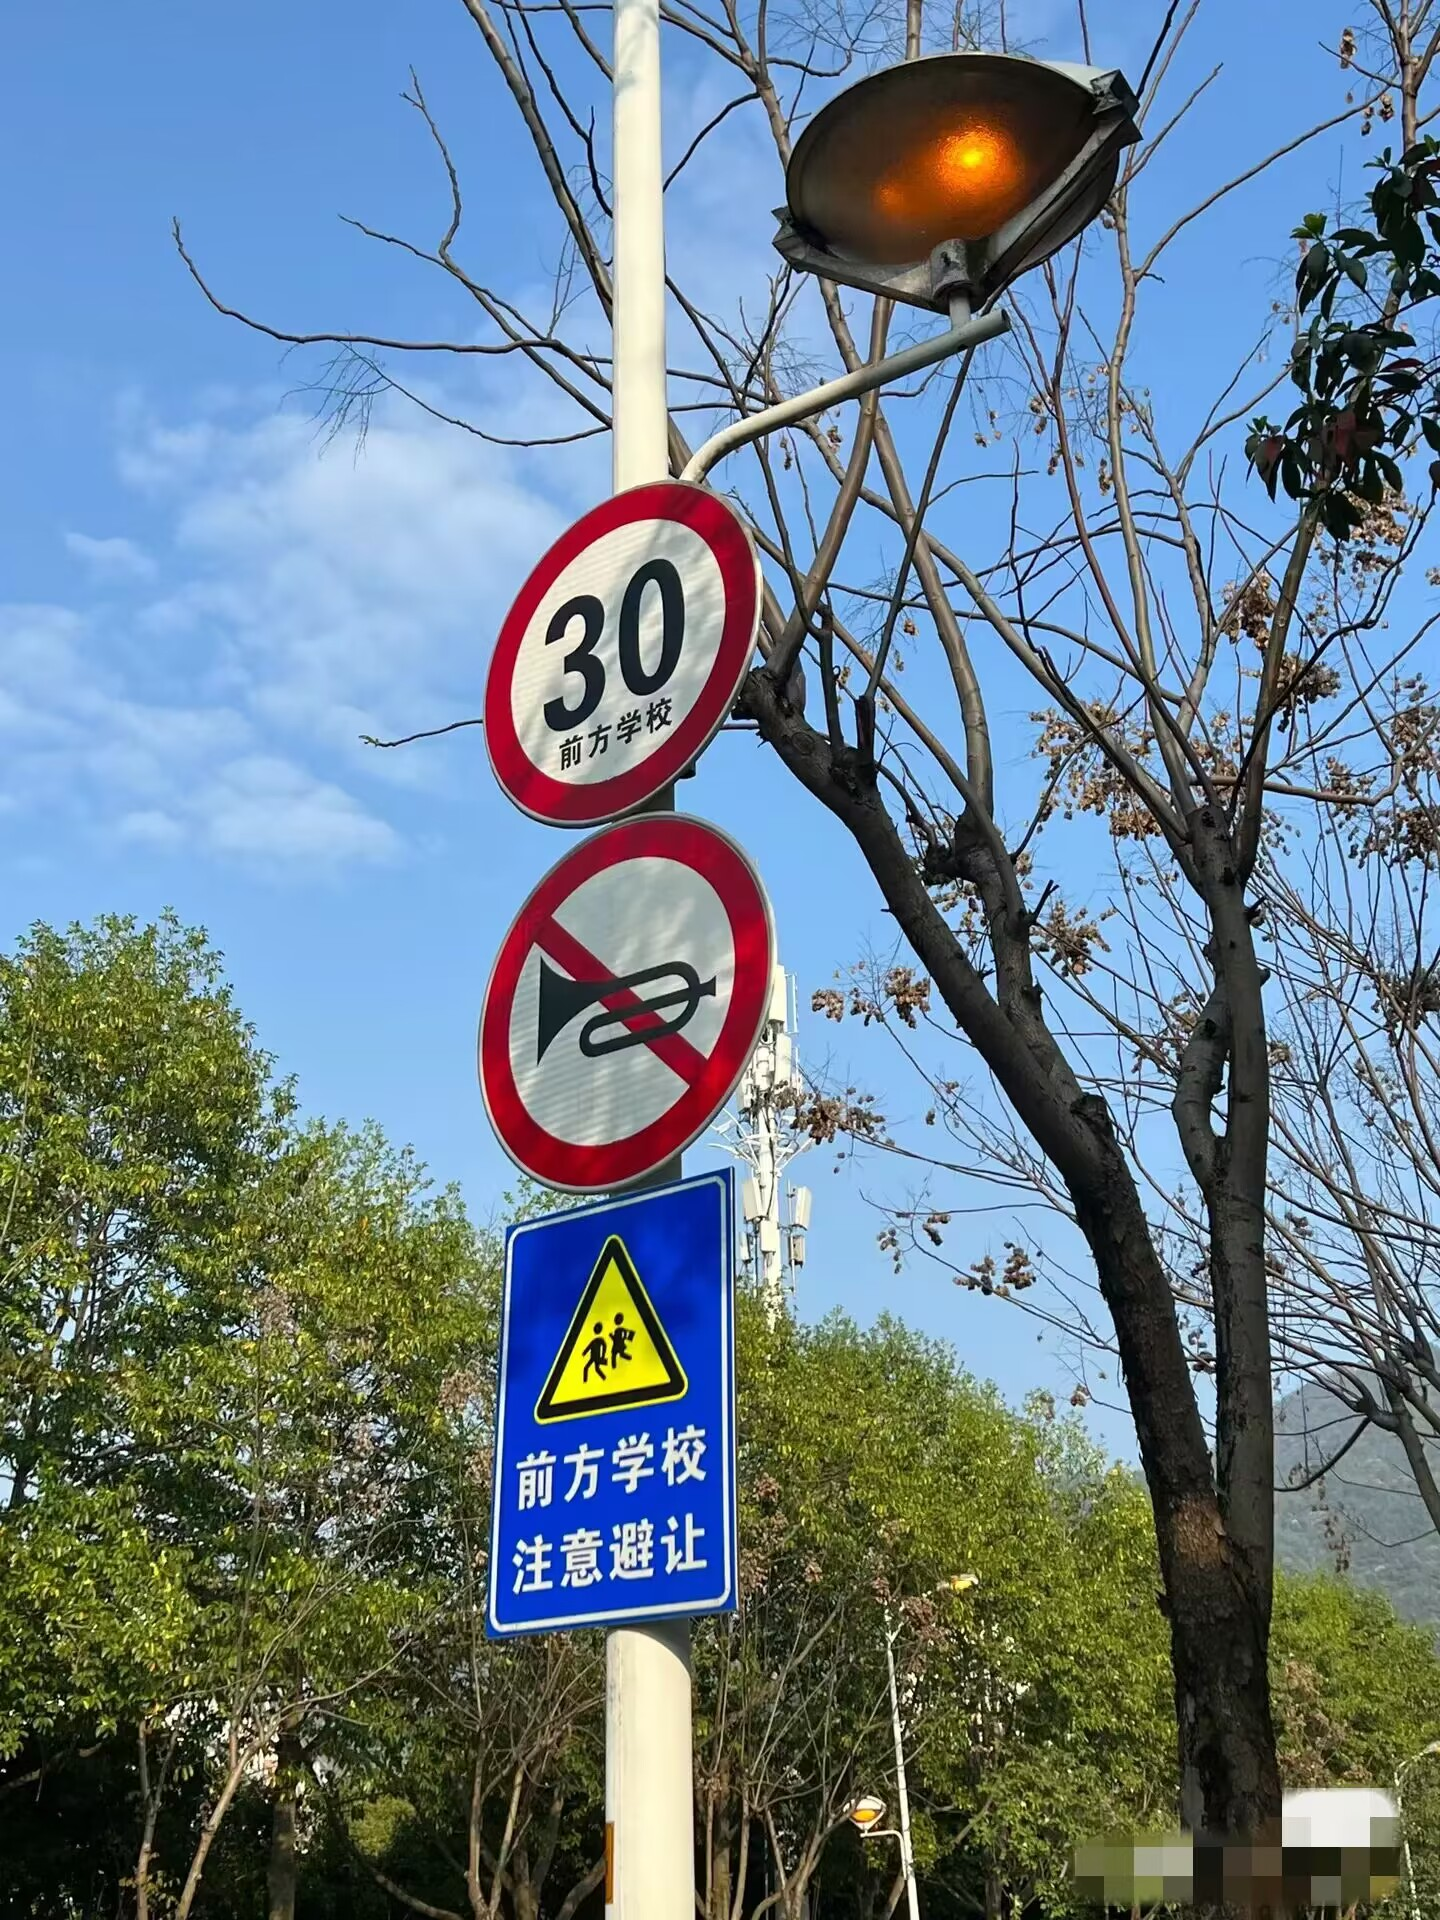p11: (486, 827, 785, 1185)
pl30: (489, 485, 759, 825)
w55: (529, 1231, 693, 1415)
